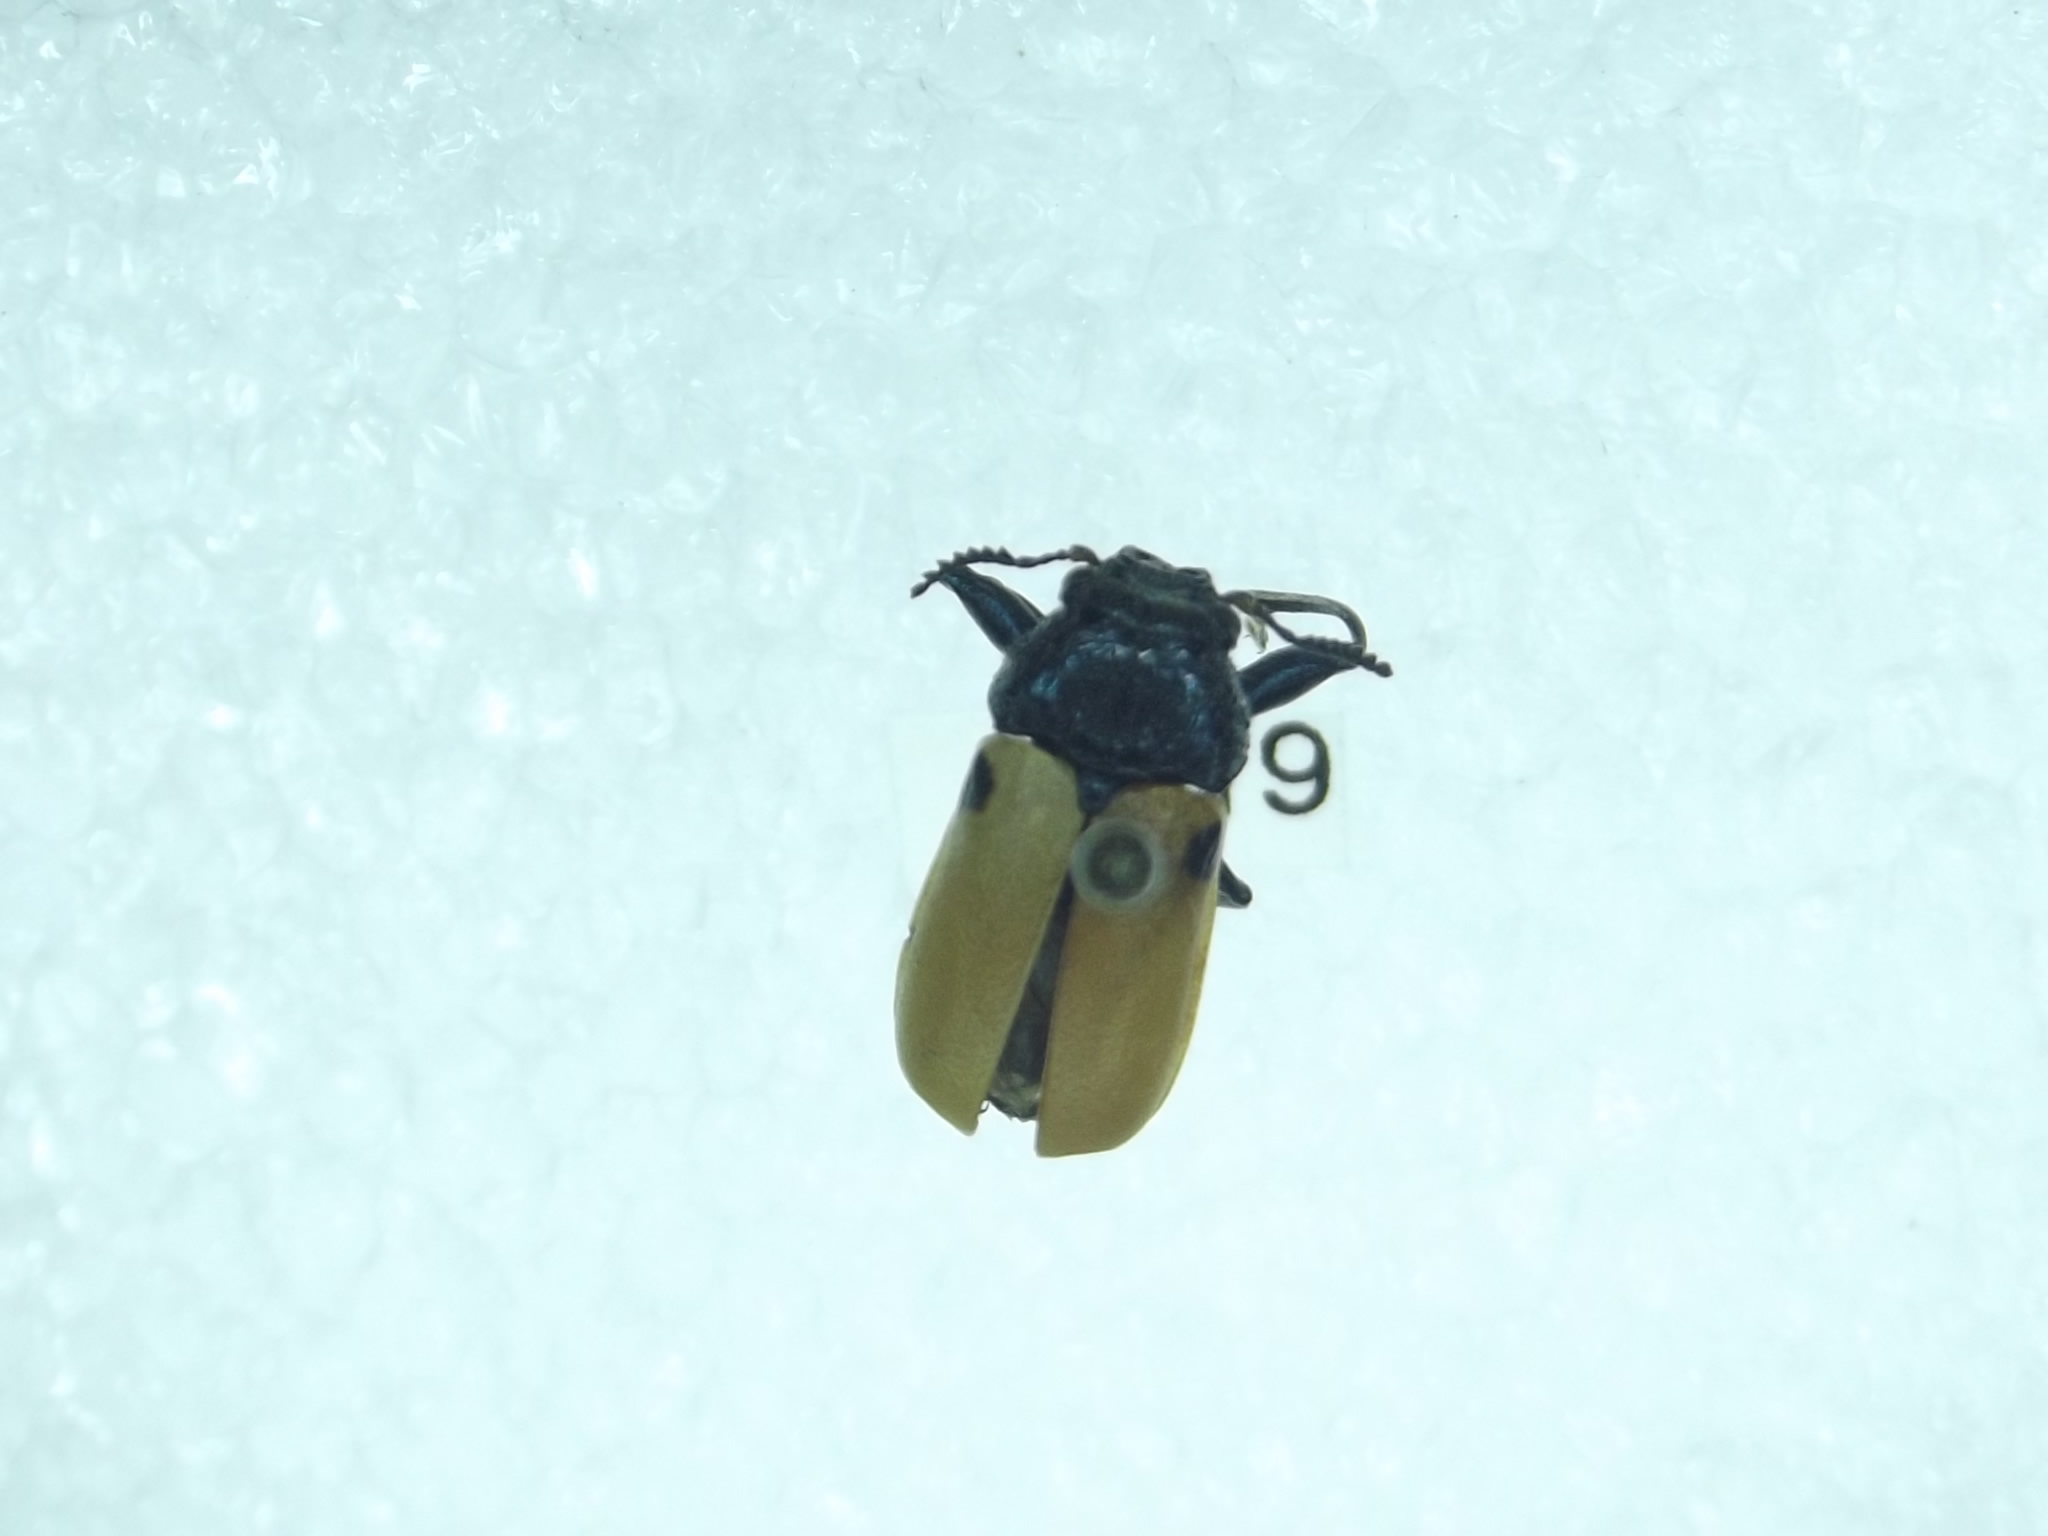Labidostomis_propinqua: (885, 532, 1397, 1184)
